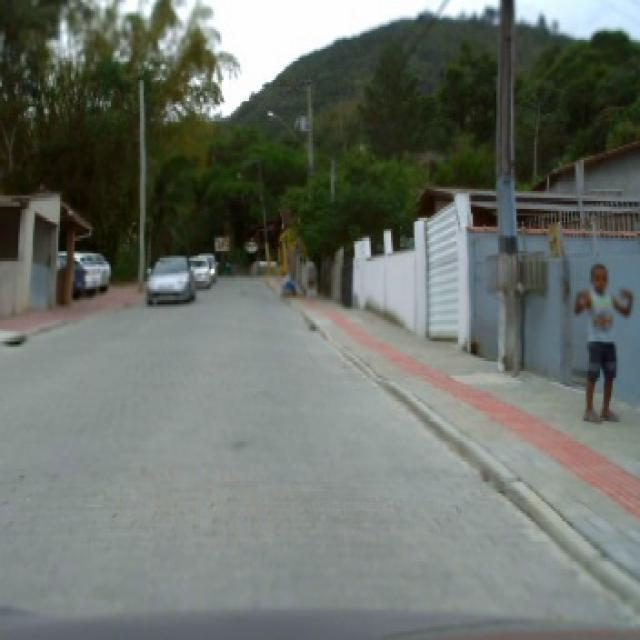Poth-hole: (0, 331, 25, 344)
